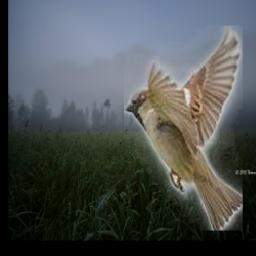Sparrow: (124, 27, 243, 232)
